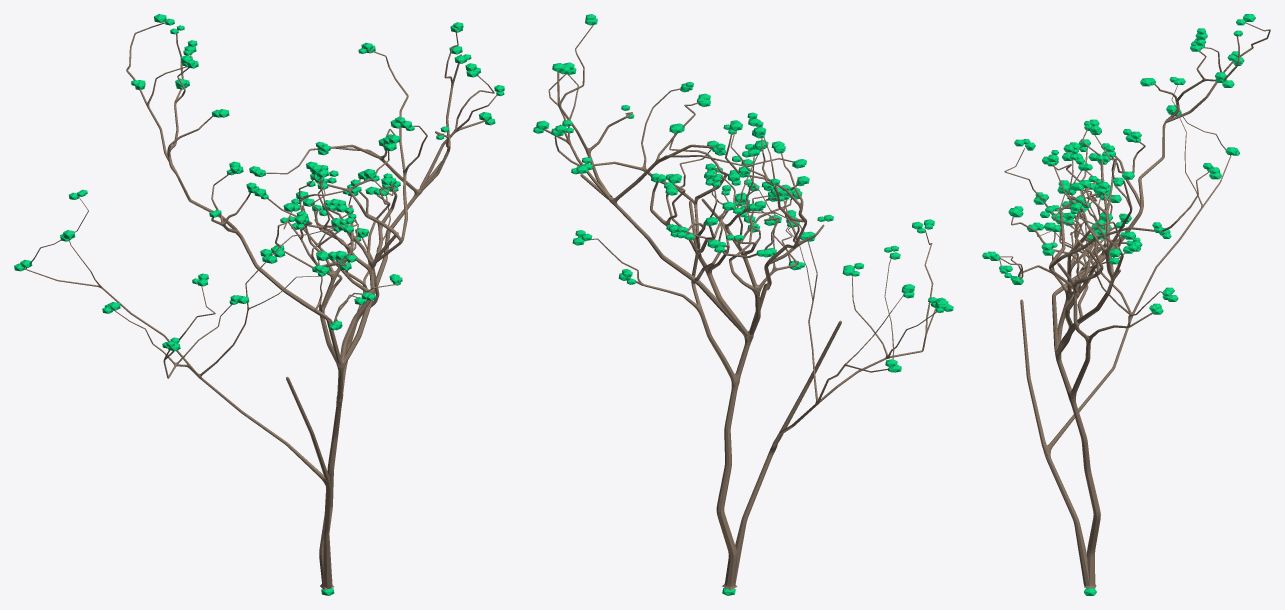
3 views of the same model, side by side, from view 1: azimuth 30°, elevation 25°; view 2: azimuth 150°, elevation 25°; view 3: azimuth 270°, elevation 25° (orthographic). The views are drawn at different scales.
Visible parts, largest first — view 1: object 1; view 2: object 1; view 3: object 1.
Boxes of the visible parts, x1,y1,x2,y2 form: object 1: (25, 22, 496, 590); object 1: (543, 25, 936, 590); object 1: (999, 22, 1270, 588).
Size of the model in its own units: 2.6 by 3.21 by 1.56.
